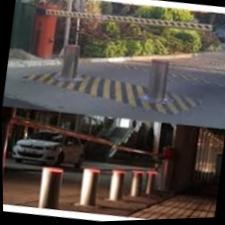Animal: (140, 51, 172, 106), (53, 36, 88, 84), (32, 163, 63, 210), (77, 168, 99, 206), (109, 169, 123, 203), (126, 174, 141, 201), (144, 173, 155, 198)
